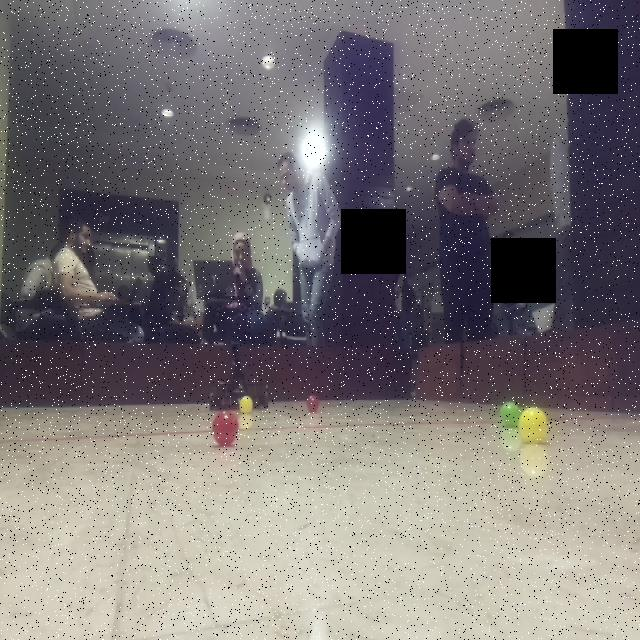ball: (518, 404, 550, 444), (207, 410, 241, 447), (497, 397, 520, 432), (238, 392, 255, 419), (305, 392, 323, 416)
